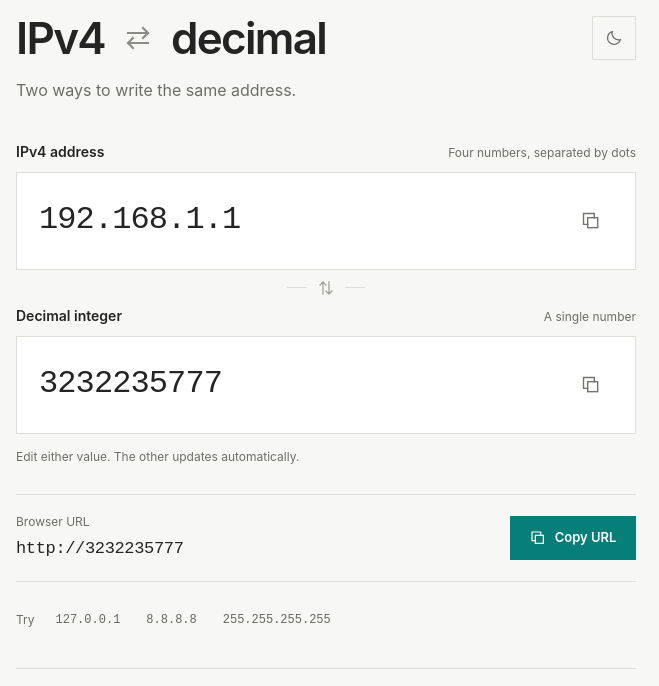
it: ignores stale async copy feedback after input changes
Click the button with aria-label "Copy browser URL" at (573, 538), box x1=510 y1=516 x2=636 y2=560
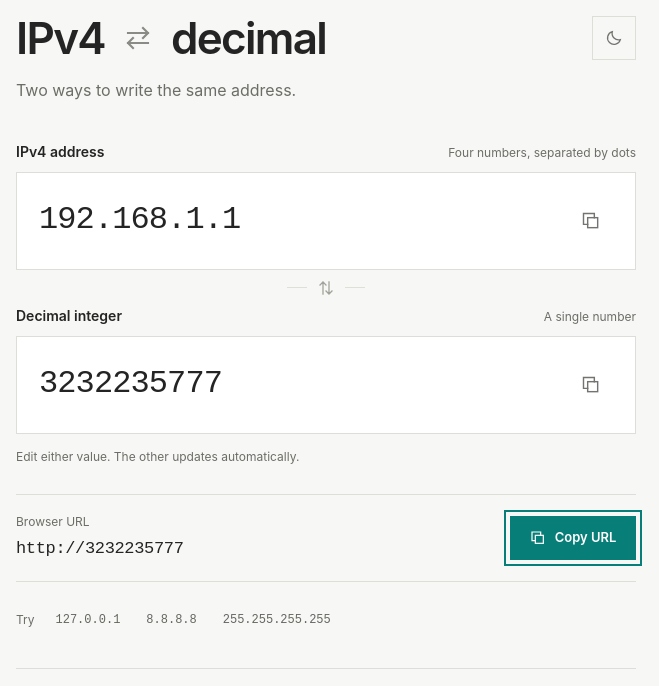
Type "8.8.8.8" into the field labelled "IPv4 address" at (296, 221), box x1=39 y1=198 x2=553 y2=243
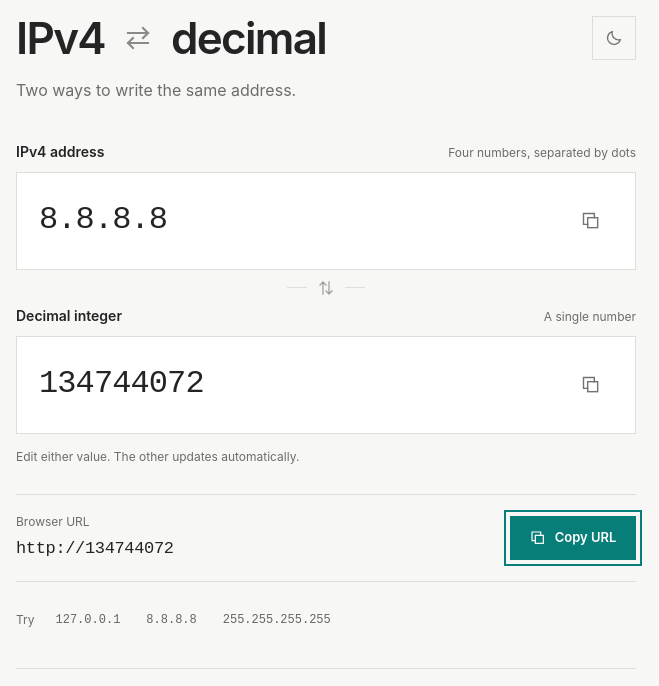
Expected: the button with aria-label "Copy browser URL" reads "Copy URL", x1=510 y1=516 x2=636 y2=560
Expected: the text "http://134744072" is shown, x1=16 y1=536 x2=174 y2=561
